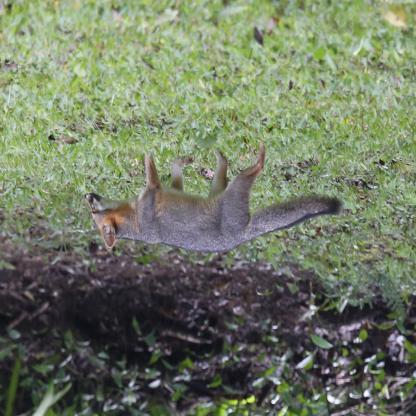zorro: (77, 135, 347, 265)
